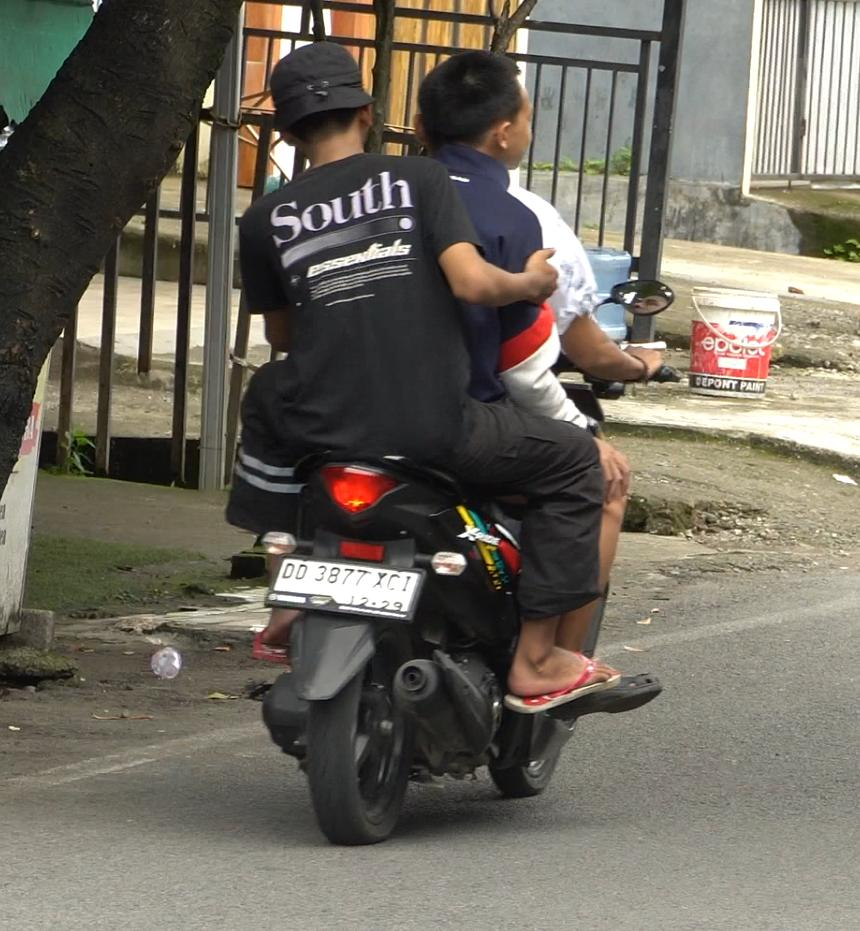number-plate: (265, 556, 427, 622)
